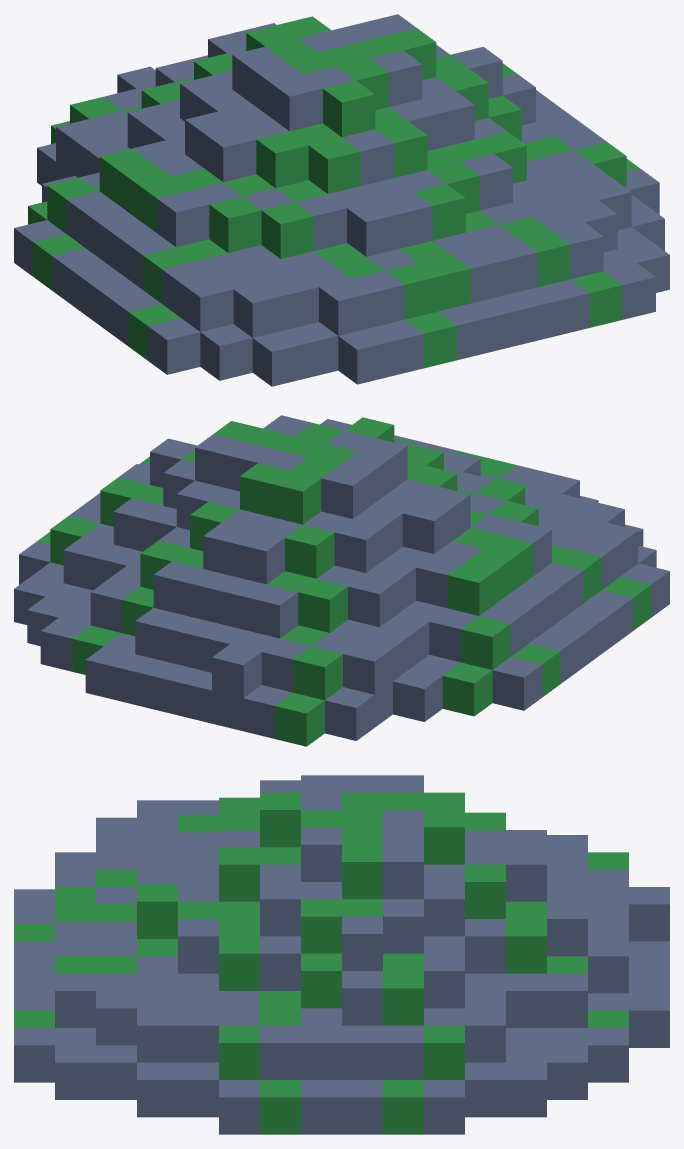
The model's file is Hill5.obj.
The picture shows the model from 3 angles, top to bottom: view 1: azimuth 30°, elevation 25°; view 2: azimuth 150°, elevation 25°; view 3: azimuth 270°, elevation 25°; orthographic projection. The views are drawn at different scales.
Visible parts, largest first — view 1: Hill5; view 2: Hill5; view 3: Hill5.
Boxes of the visible parts, bbox=[...] form: Hill5: bbox=[14, 14, 669, 386]; Hill5: bbox=[14, 415, 669, 746]; Hill5: bbox=[14, 775, 669, 1134].
Size of the model in its own units: 16 by 5 by 16.
Materials: 1 (1 with a texture image).
